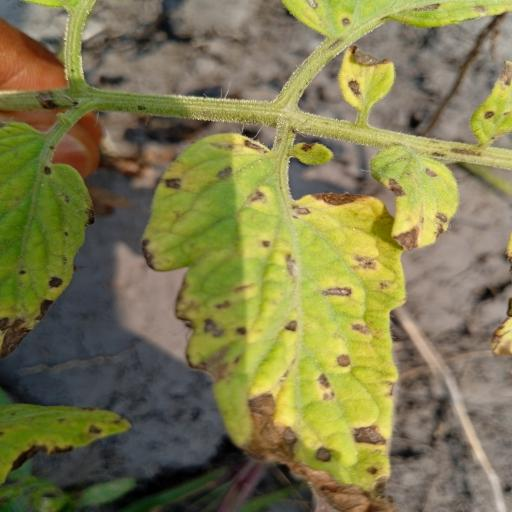Tomato_Brown_Spots: (135, 127, 428, 512), (0, 108, 96, 360)
